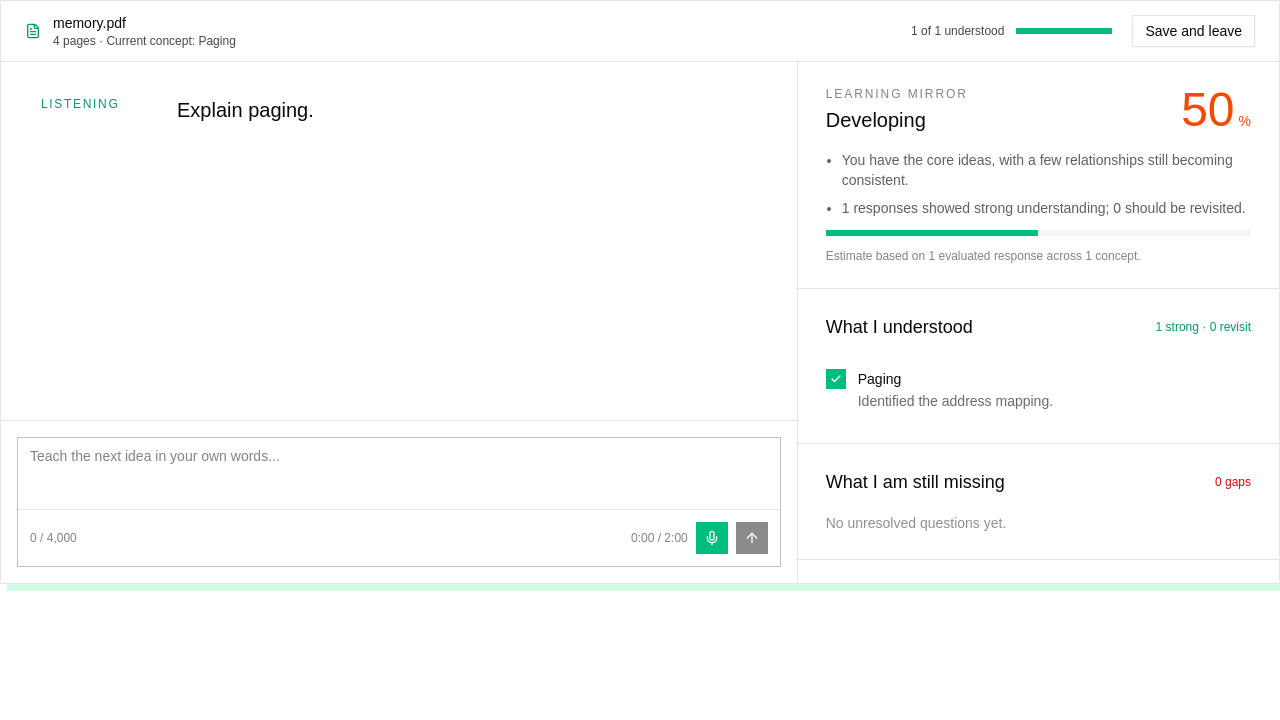
Test: SessionWorkspace › shows a progress summary after saving an incomplete session
Expected: the text "Explain paging." is shown, left=177, top=99, right=314, bottom=121
Click the button "Save and leave" at (1194,31), box left=1132, top=15, right=1255, bottom=47
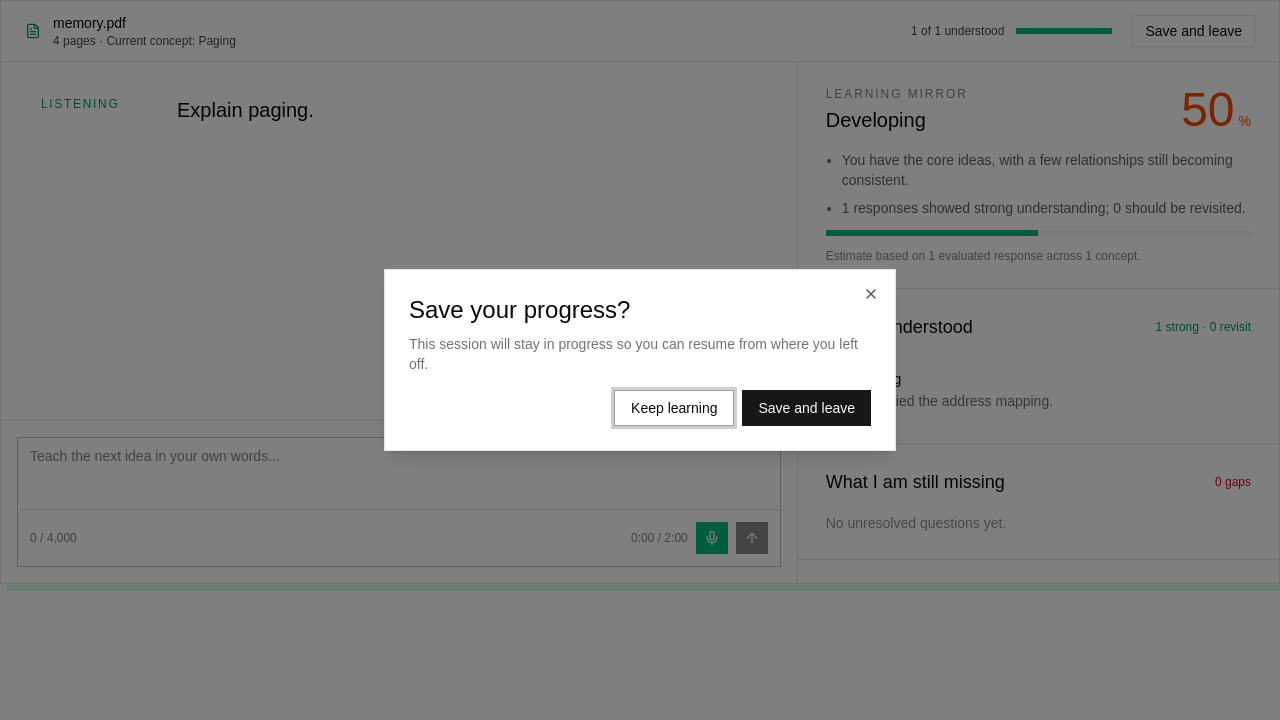
Click the button "Save and leave" at (807,408), box left=742, top=390, right=871, bottom=426
(page scrolled)
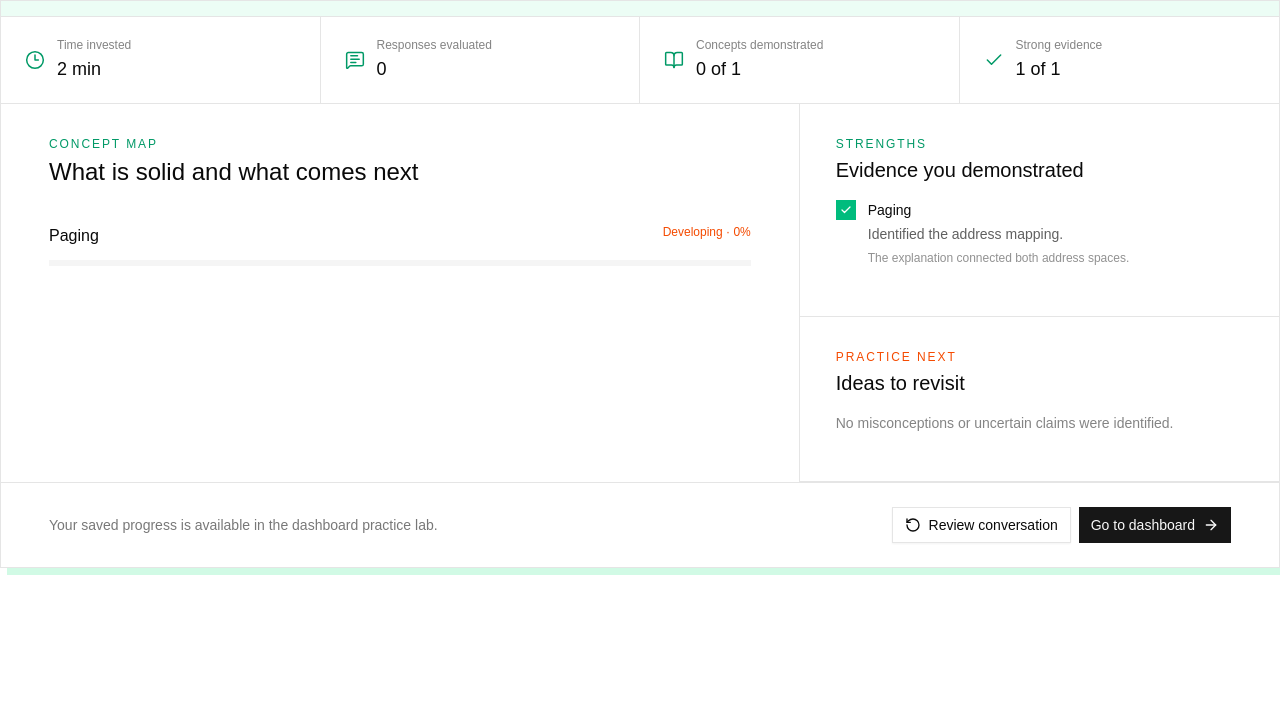
Result: the text "2 min" is shown at left=57, top=59, right=101, bottom=79
Result: the link "Go to dashboard" is shown at left=1079, top=507, right=1231, bottom=543
